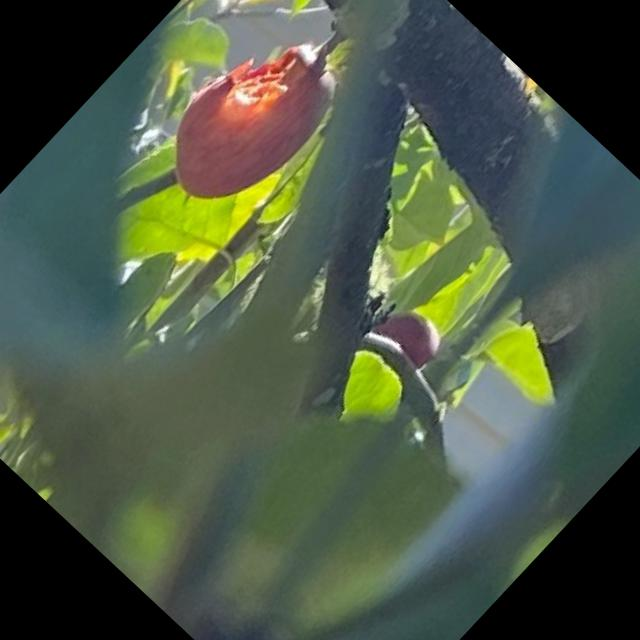Apples: (144, 14, 353, 228), (369, 297, 449, 376)
